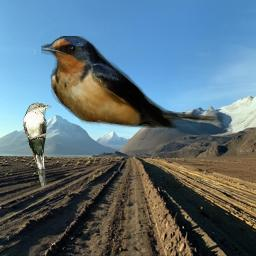Cuckoo: (23, 102, 51, 188)
Swallow: (41, 36, 226, 128)
